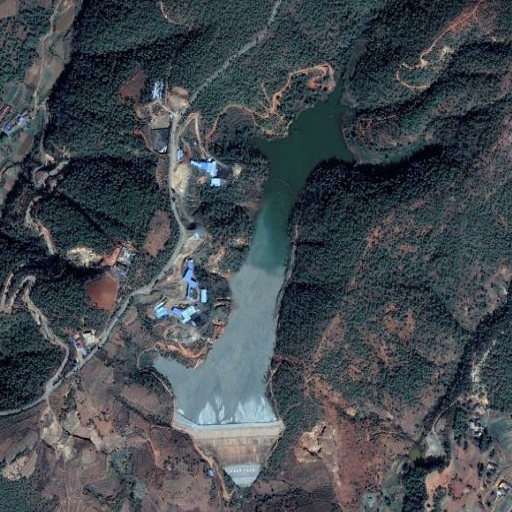tp: (152, 73, 356, 488)
